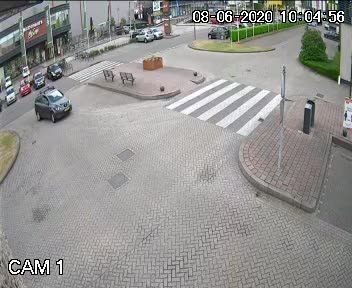car: (27, 89, 76, 127)
